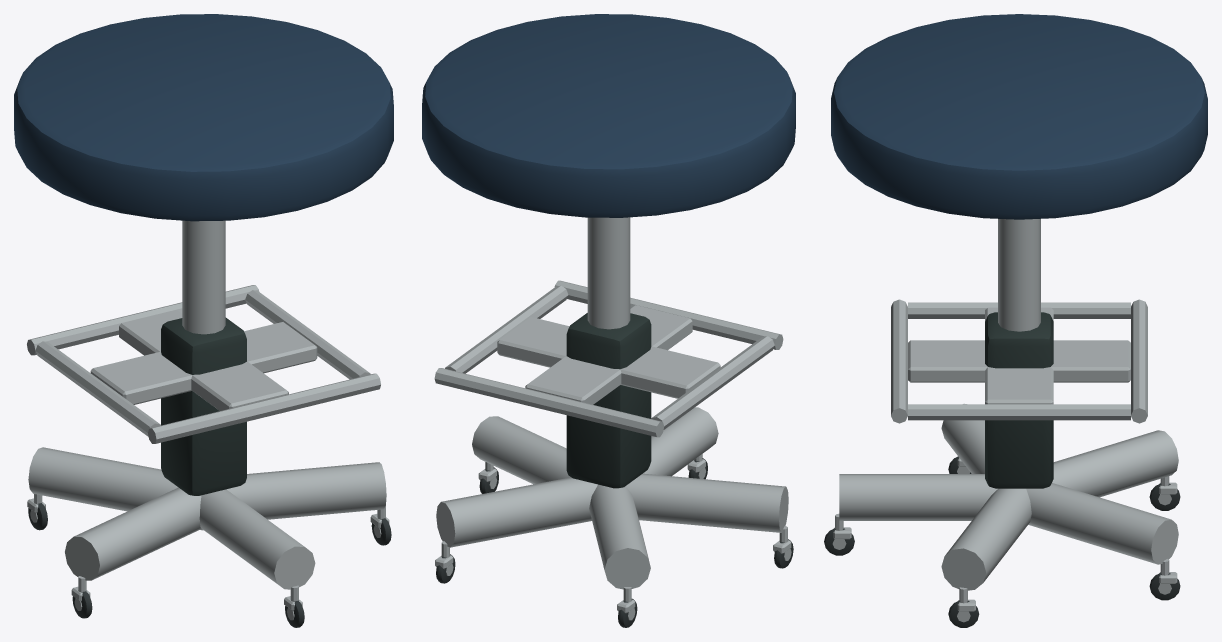
The model's file is stool.glb.
3 views of the same model, side by side, from view 1: azimuth 30°, elevation 25°; view 2: azimuth 150°, elevation 25°; view 3: azimuth 270°, elevation 25° (orthographic).
Parts seen in each view (by area): view 1: stool; view 2: stool; view 3: stool.
Boxes of the visible parts, x1,y1,x2,y2 form: stool: (14,14,393,627); stool: (422,14,795,627); stool: (824,14,1207,627).
Size of the model in its own units: 0.44 by 0.5995 by 0.448.
